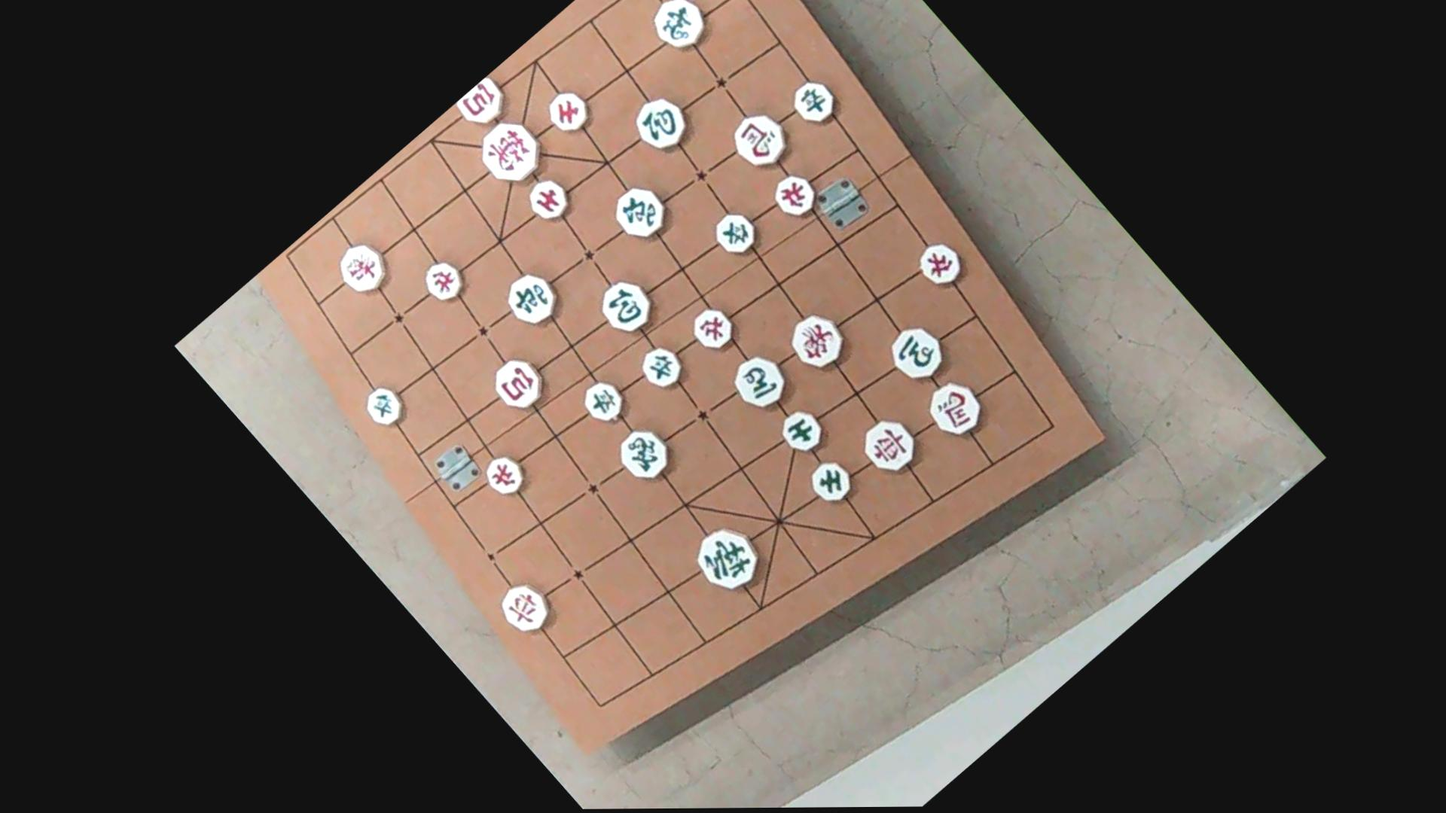cha_green: (606, 178, 678, 245), (496, 262, 566, 328)
cha_red: (853, 411, 924, 478), (493, 574, 559, 638)
jol_green: (782, 72, 840, 128), (706, 206, 763, 260), (575, 376, 632, 429), (635, 342, 691, 394), (358, 379, 412, 430)
jol_red: (763, 168, 822, 224), (911, 234, 969, 289), (685, 300, 741, 353), (478, 450, 532, 501), (415, 253, 469, 303)
ma_green: (722, 346, 797, 416), (880, 320, 952, 388)
ma_red: (722, 103, 796, 173), (920, 373, 993, 443)
po_green: (627, 90, 699, 158), (590, 271, 661, 339)
po_red: (483, 349, 552, 415), (452, 75, 514, 131)
sa_green: (773, 402, 830, 457), (801, 452, 857, 505)
sa_red: (520, 172, 576, 226), (538, 82, 593, 136)
sang_green: (609, 422, 679, 488), (645, 0, 716, 56)
sang_red: (783, 306, 856, 375), (331, 236, 398, 299)
wang_green: (683, 516, 768, 596)
wang_red: (469, 110, 554, 190)
